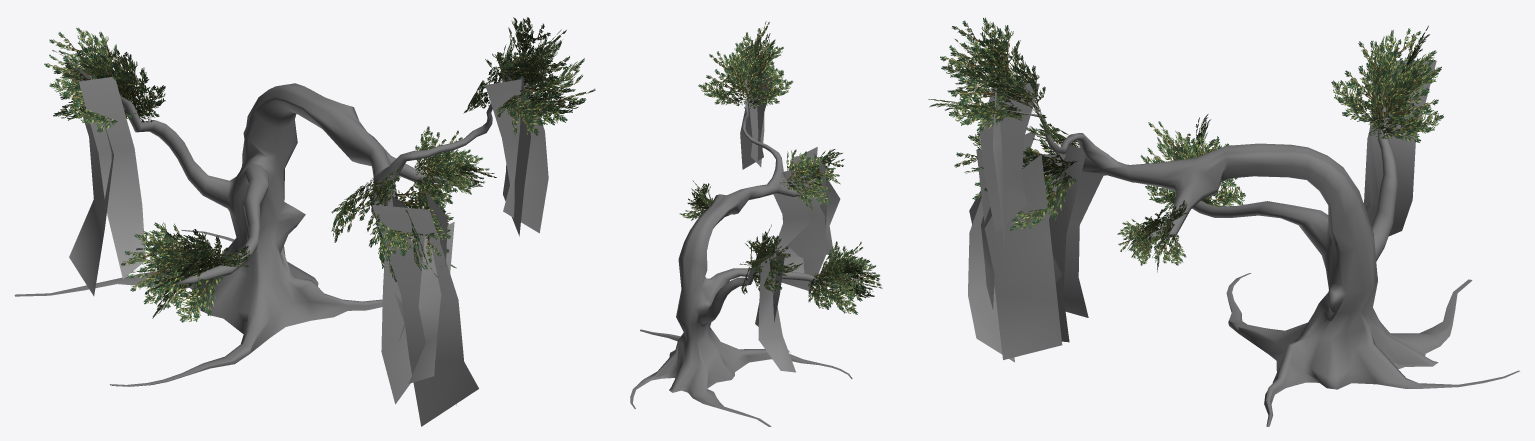
Rendered from exotictree_lod0.fbx.
The picture shows the model from 3 angles, left to right: view 1: azimuth 30°, elevation 25°; view 2: azimuth 150°, elevation 25°; view 3: azimuth 270°, elevation 25°; orthographic projection. The views are drawn at different scales.
Parts seen in each view (by area): view 1: Default_Layer; view 2: Default_Layer; view 3: Default_Layer.
Boxes of the visible parts, <box> form: Default_Layer: <box>14,17,595,426</box>; Default_Layer: <box>630,21,882,426</box>; Default_Layer: <box>928,17,1519,426</box>.
Bounding box in the file's own units: 1151 × 1196 × 1656.
